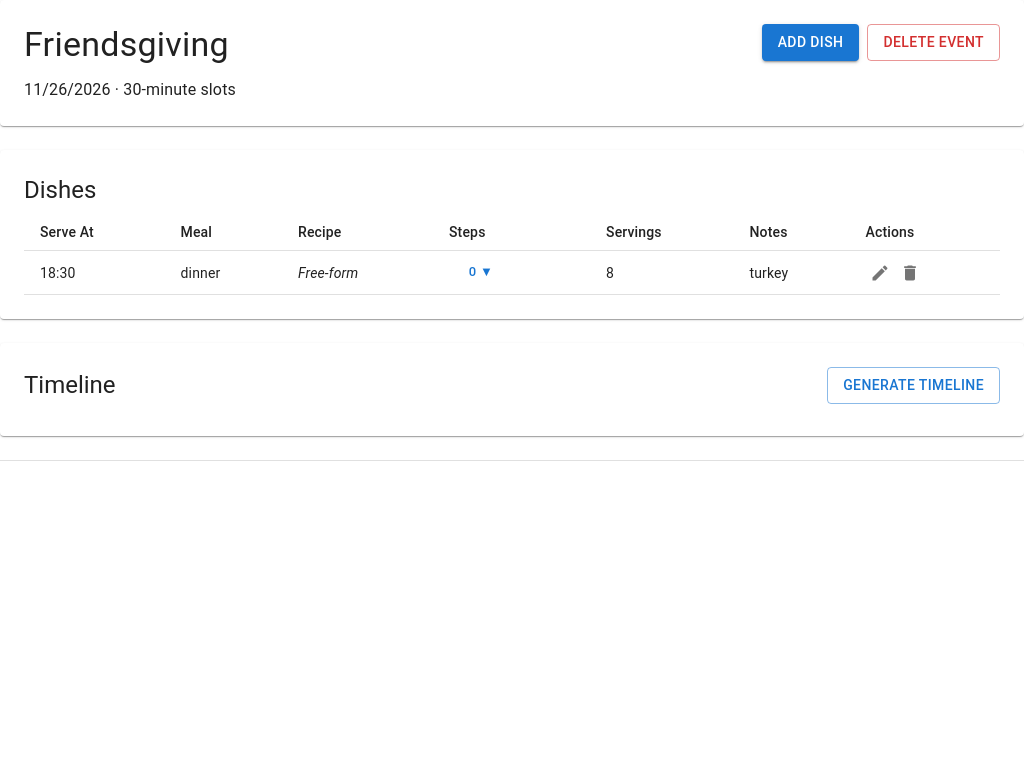
Test: EventDetailPage › hides Suggest Fixes when AI is unavailable
Expected: the heading "Friendsgiving" is shown, [24,24,236,66]
Click the button "Generate Timeline" at x=914, y=385, box [827,367,1000,404]
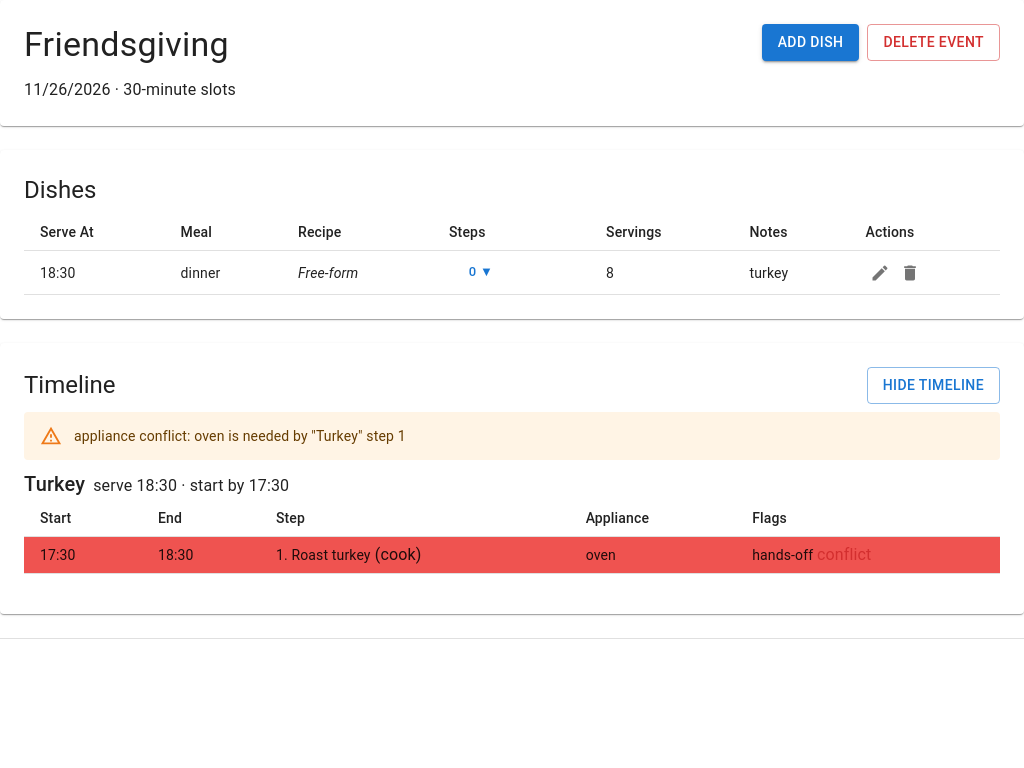
Expected: the heading "Turkey" is shown, [24,472,85,496]
